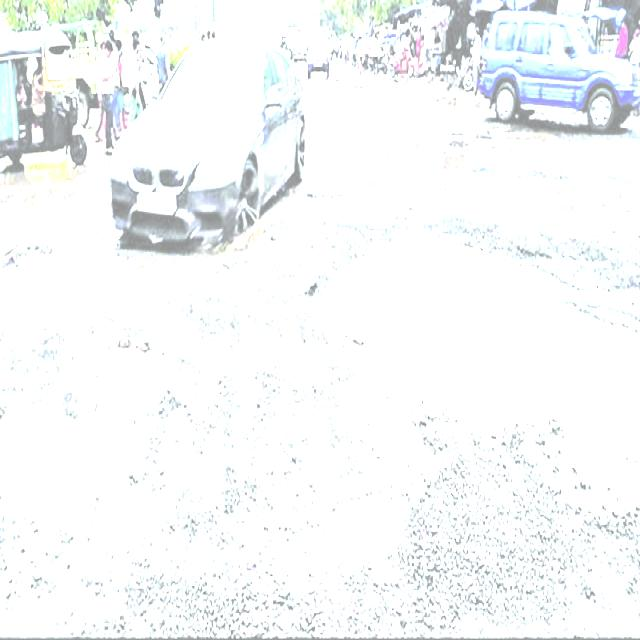Pothole: (301, 212, 640, 541), (3, 273, 247, 618)
